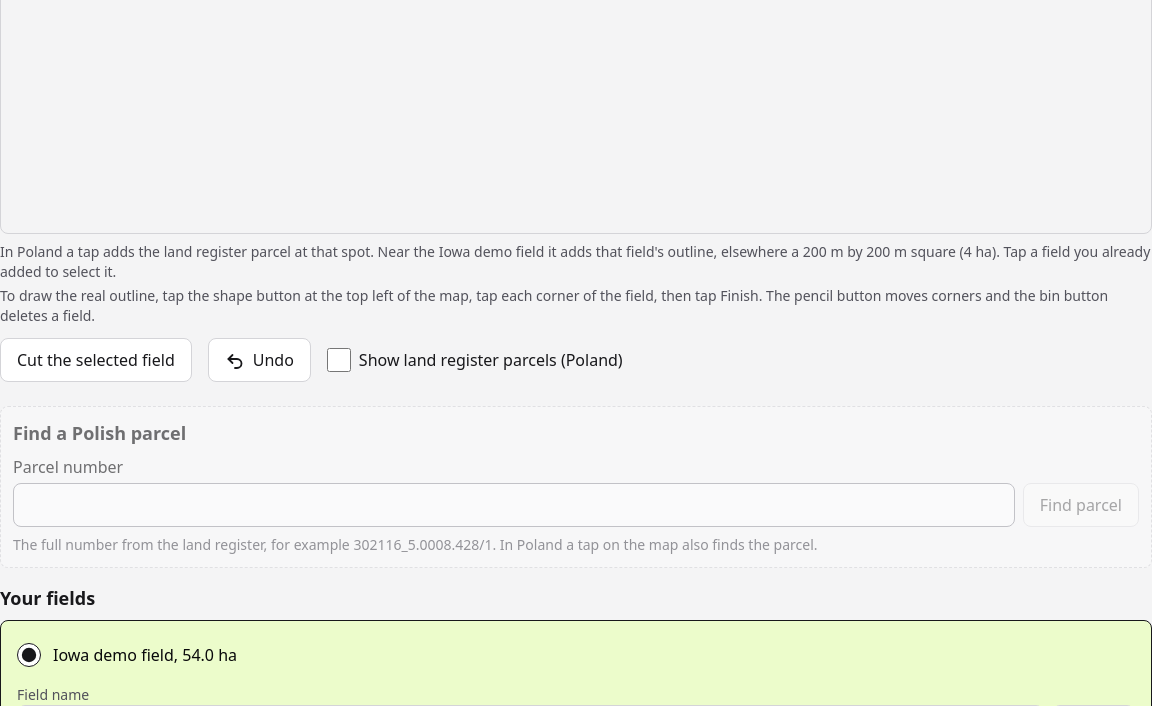
Test: cutting a field and the parcel layer › starts cut mode, explains it, and offers to cancel until the map reports the mode is off
This screenshot has width=1152, height=706.
(page scrolled)
Step 1. Click the button "Cut the selected field" → click(96, 360), box [0,338,192,382]
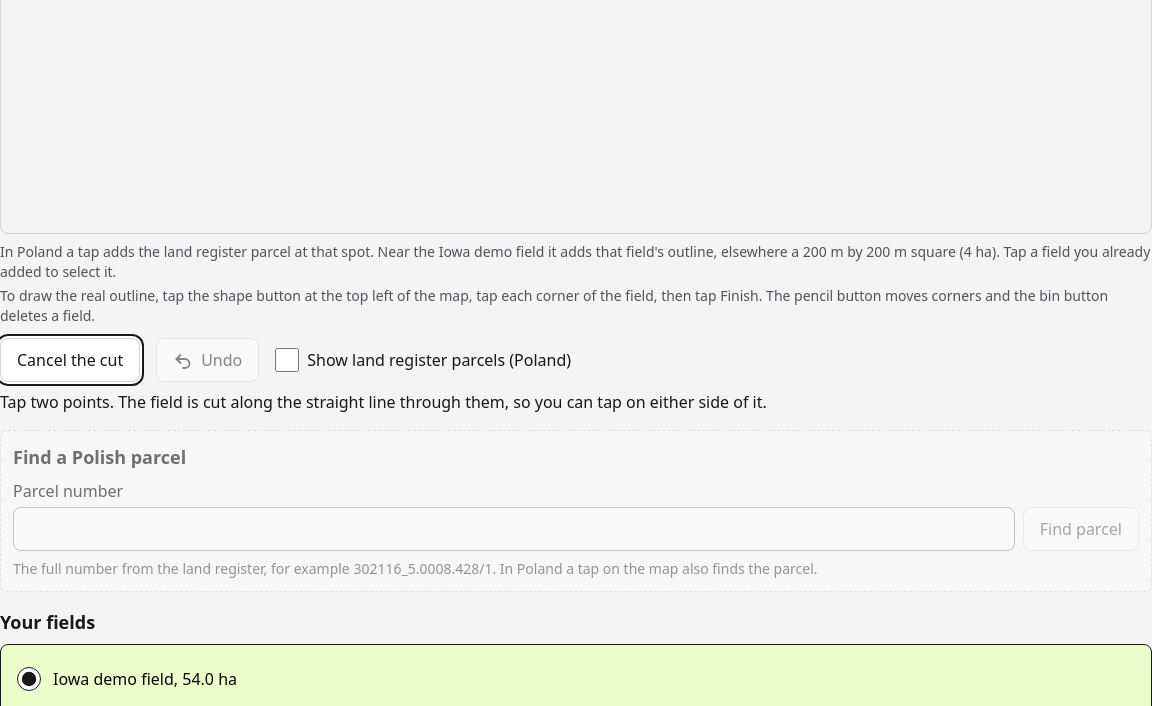
Check: the text "Tap two points. The field is cut along the straight line through them, so you can tap on either side of it." is shown, box [0,391,767,413]
Step 2. Click the button "Cancel the cut" → click(70, 360), box [0,338,140,382]
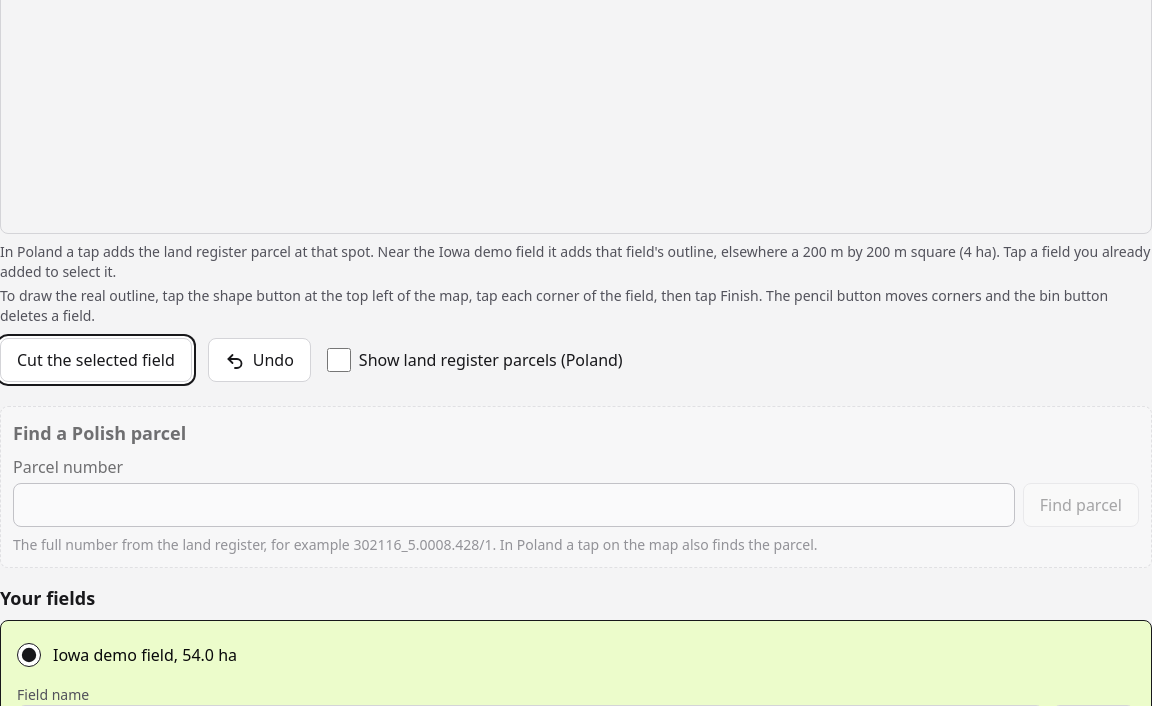
Check: the text "Tap two points. The field is cut along the straight line through them, so you can tap on either side of it." is gone
Check: the button "Cut the selected field" is shown, box [0,338,192,382]
